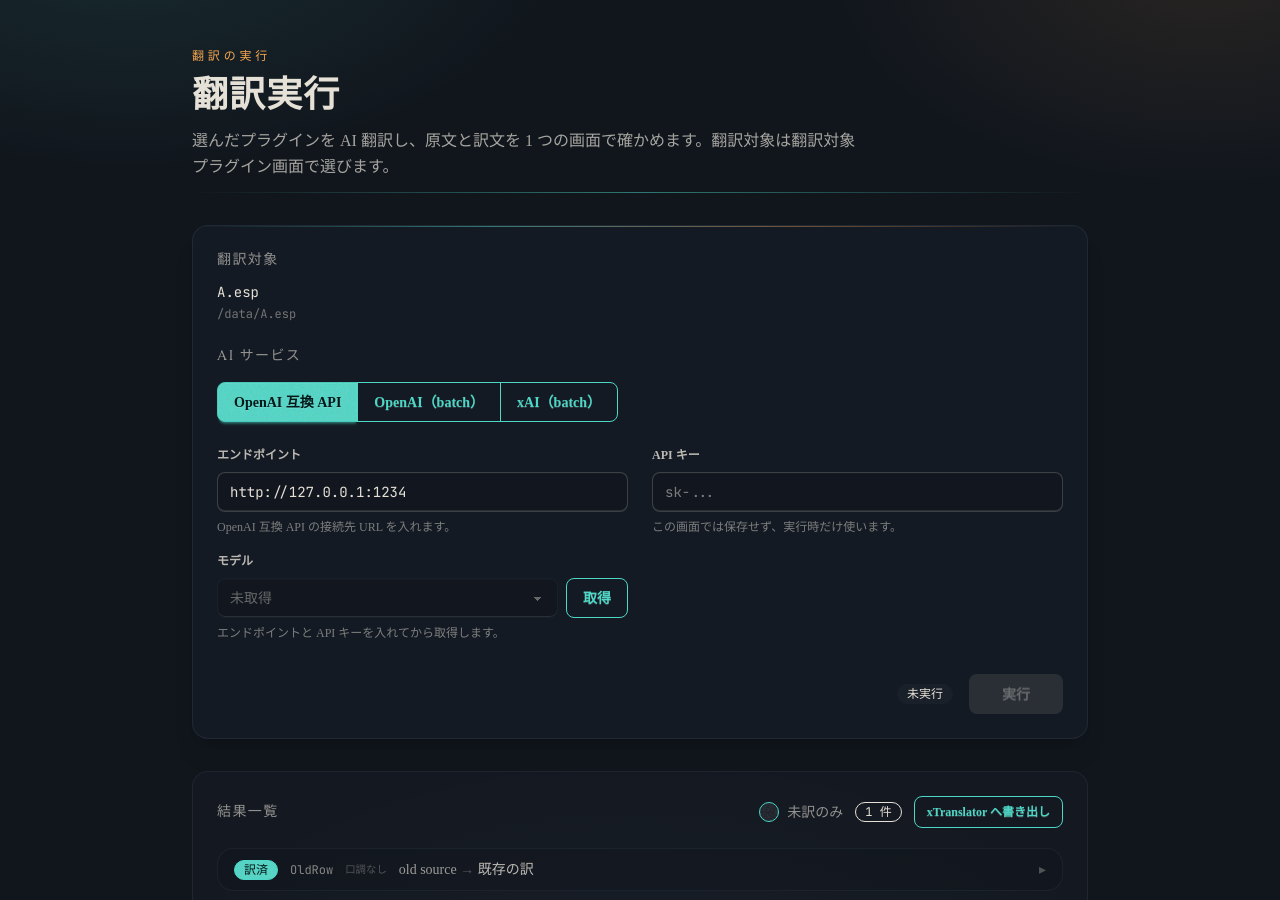
Test: TranslationRunContainer › 未訳のみの取得失敗時に選択前の一覧とページを保つ
The width and height of the screenshot is (1280, 900).
Expected: the text "old source" is shown, [399,862,460,876]
Click the checkbox labelled "未訳のみ": (769, 812) [759,802,779,822]
(page scrolled)
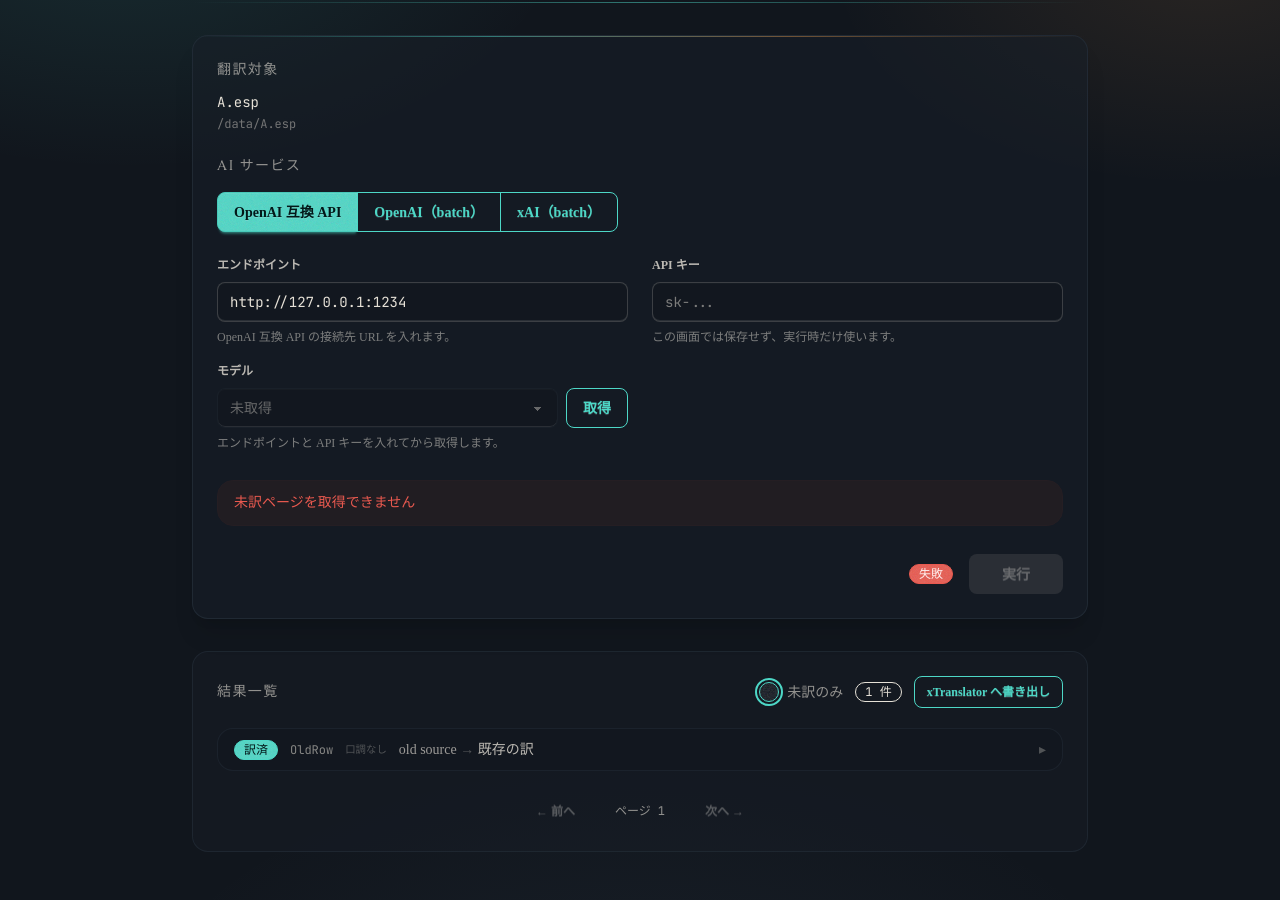
Expected: the checkbox labelled "未訳のみ" is not checked, [759,682,779,702]
Expected: the message reads "未訳ページを取得できません", [234,495,415,510]
